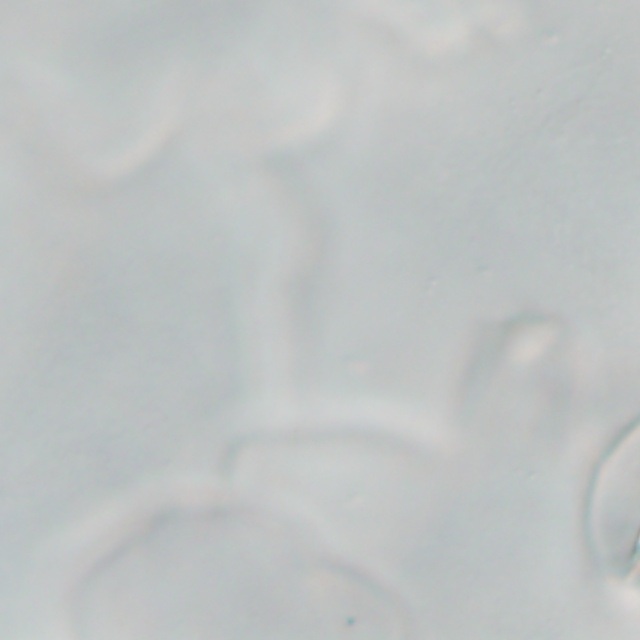center: (283, 597, 361, 609), (575, 501, 640, 509)
stomata-huw1: (236, 567, 408, 639), (586, 422, 639, 588)
